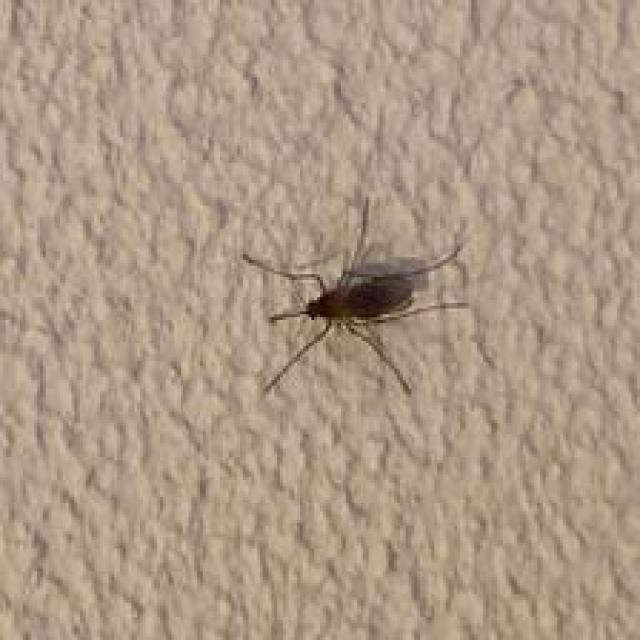Culex: (240, 194, 471, 397)
